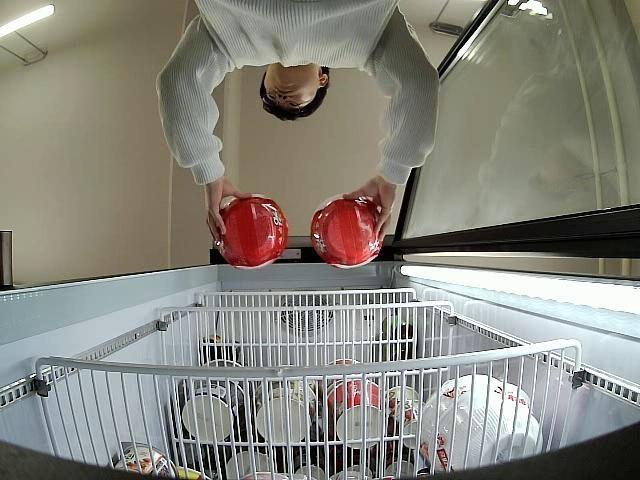10_wangTtukkeong: (311, 192, 384, 268), (218, 194, 290, 271)
